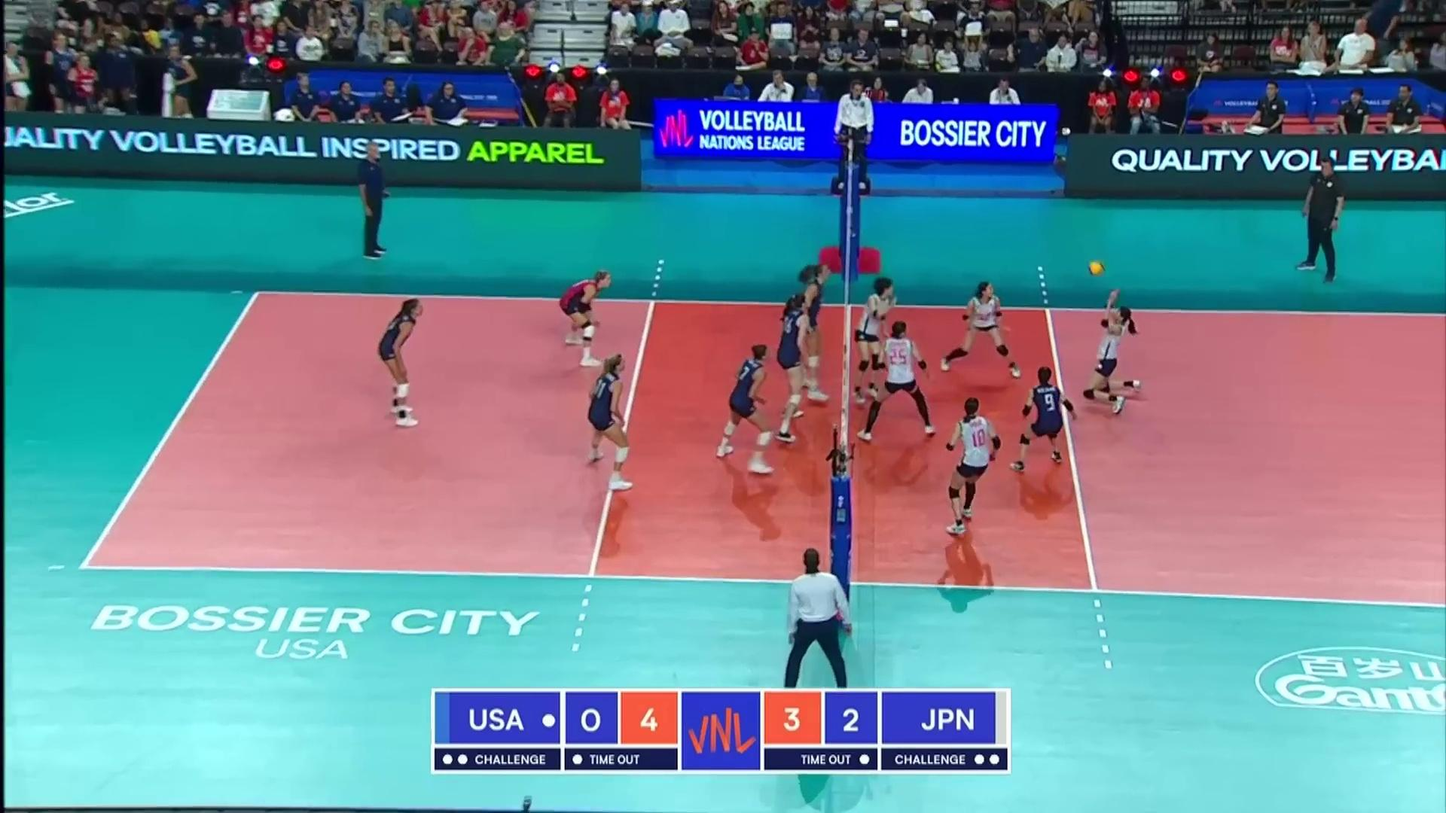player: (854, 319, 932, 444), (711, 343, 779, 479), (943, 397, 1003, 532), (941, 285, 1026, 379), (579, 356, 636, 494), (1086, 287, 1146, 412), (373, 297, 430, 428), (1010, 367, 1078, 470), (791, 262, 834, 403), (779, 290, 815, 447), (559, 271, 615, 364), (857, 276, 896, 403)
refree: (785, 548, 853, 689), (833, 82, 875, 193)
